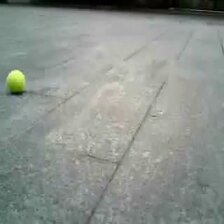tennis: (6, 70, 25, 91)
